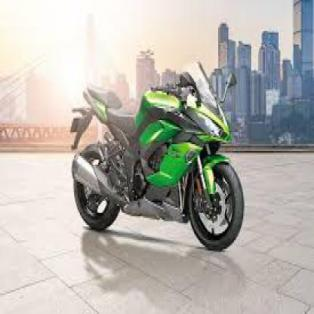Motocicleta: (66, 57, 252, 254)
